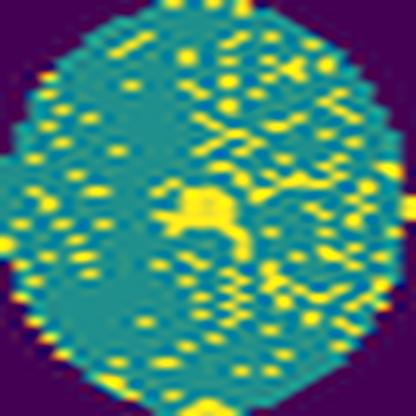Center: (150, 182, 256, 258)
